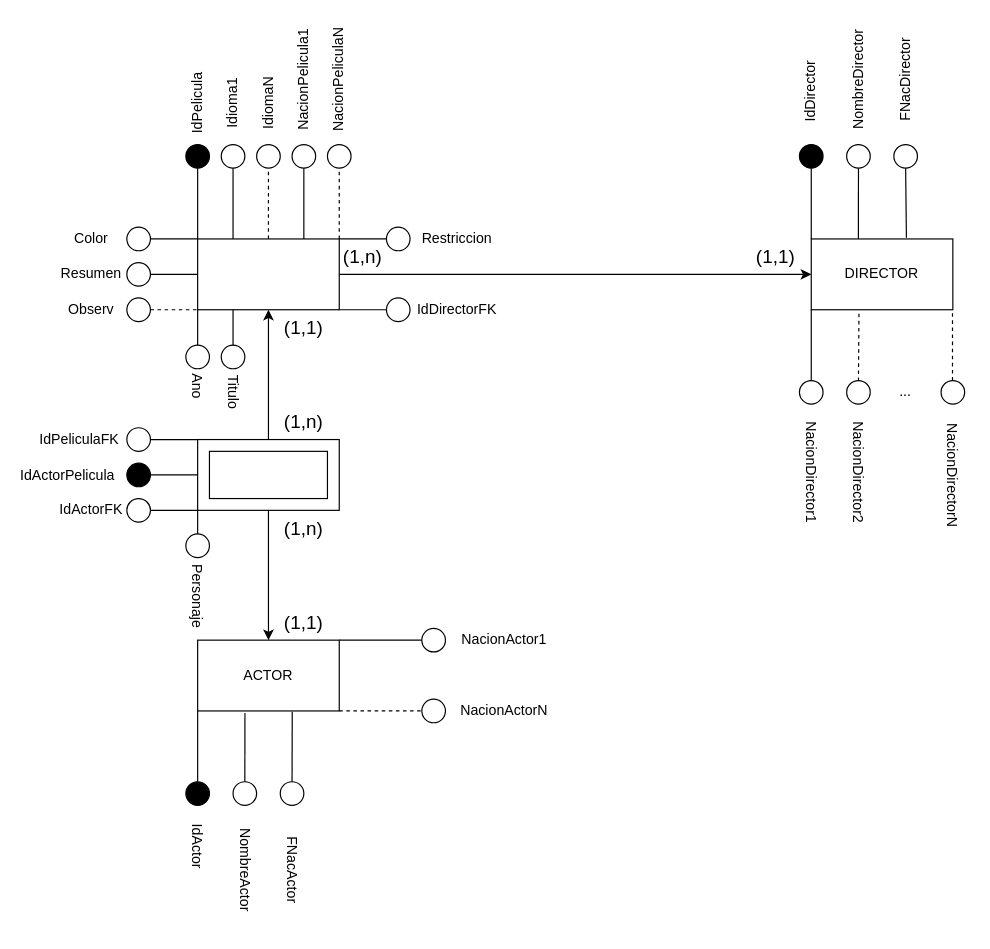
Image size: 990x949. Some labels were removed from this diagram. Here are the shapes that lost their labels. From the top down, the centre of each, then its label:
the point at 267,274: PELICULA
the point at 267,474: ACTOR EN PELICULA
